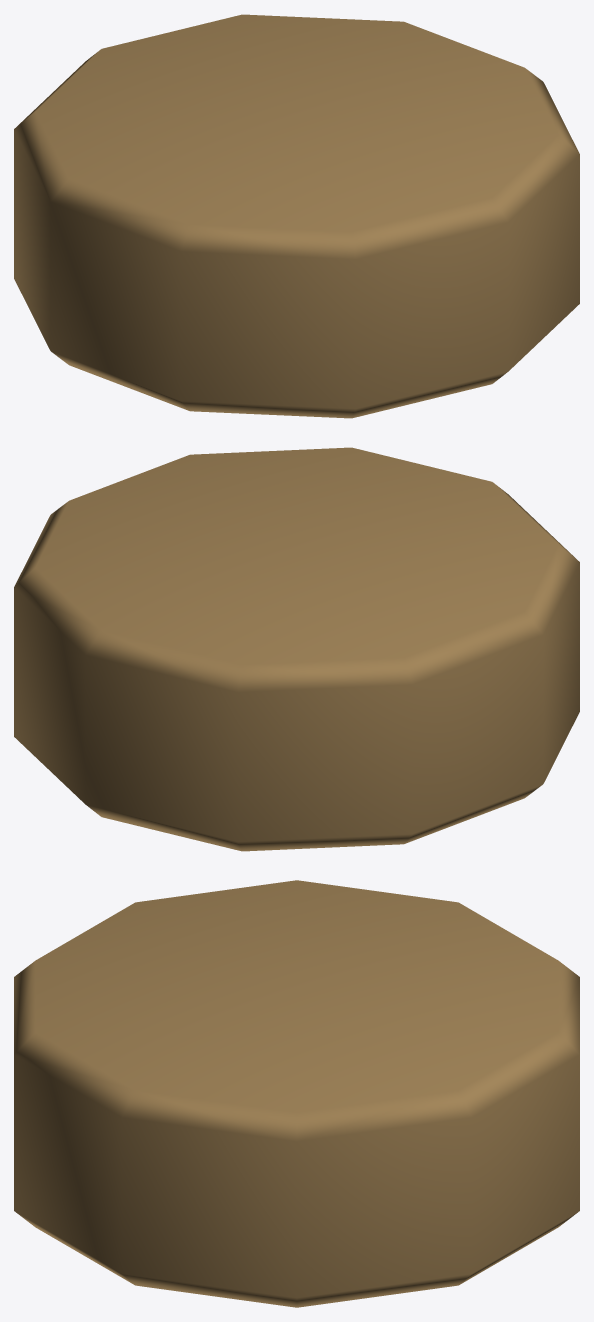
File: altarButton_model.glb
3 views of the same model, one above another, from view 1: azimuth 30°, elevation 25°; view 2: azimuth 150°, elevation 25°; view 3: azimuth 270°, elevation 25° (orthographic). The views are drawn at different scales.
Parts seen in each view (by area): view 1: altarButton; view 2: altarButton; view 3: altarButton.
Part boxes in pixels (x1,y1,x2,y2): altarButton: [14, 14, 579, 418]; altarButton: [14, 447, 579, 851]; altarButton: [14, 880, 579, 1307].
Size of what is drawn, in the model's own units: 0.3604 by 0.1304 by 0.3428.
1 material, 1 textured.
